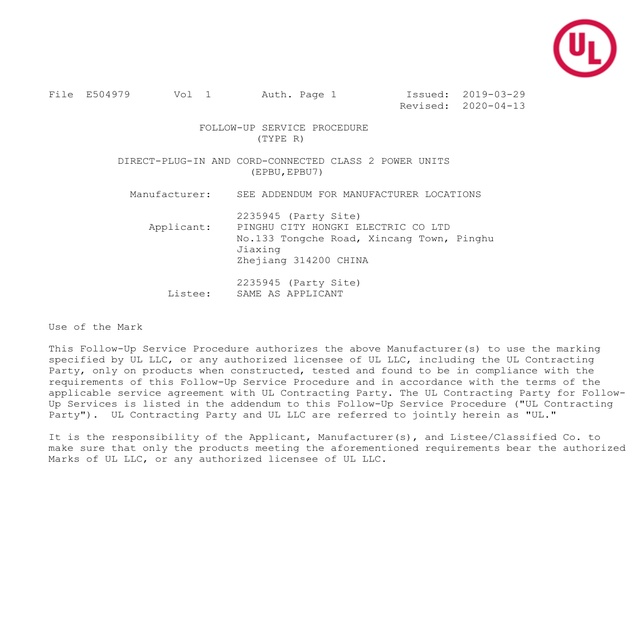ul: (553, 18, 618, 77)
